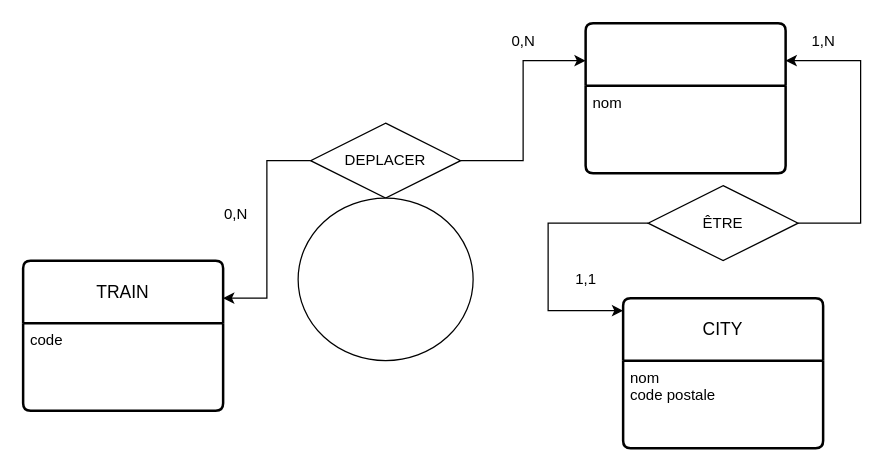
The diagram is 893 pixels wide and 470 high, and some of its shapes have lost their labels. The shapes that lost their labels are listed below. From the top down, each one's box as (x1, y1, x2, y2) in pixels, then its label:
(584, 21, 786, 174): TRAIN STATION
(297, 197, 473, 361): horaire-depart horaire-arrive quai-depart quai-arrive type de trajet
